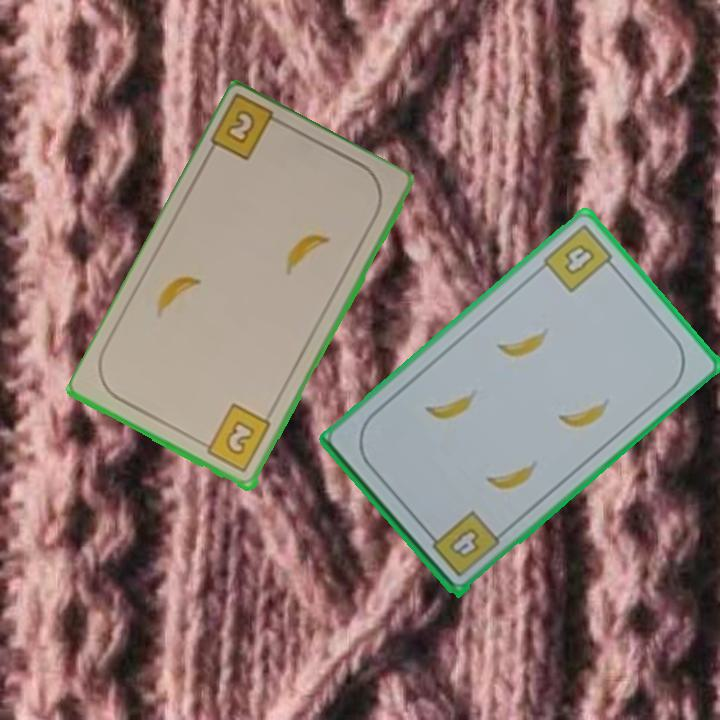2b: (196, 401, 275, 476), (208, 94, 291, 164)
4b: (539, 220, 621, 296), (423, 506, 503, 580)
